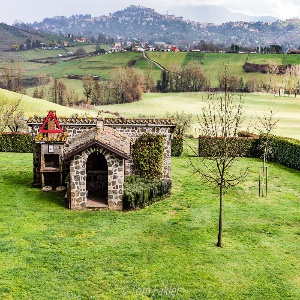triangle: (36, 109, 66, 135)
